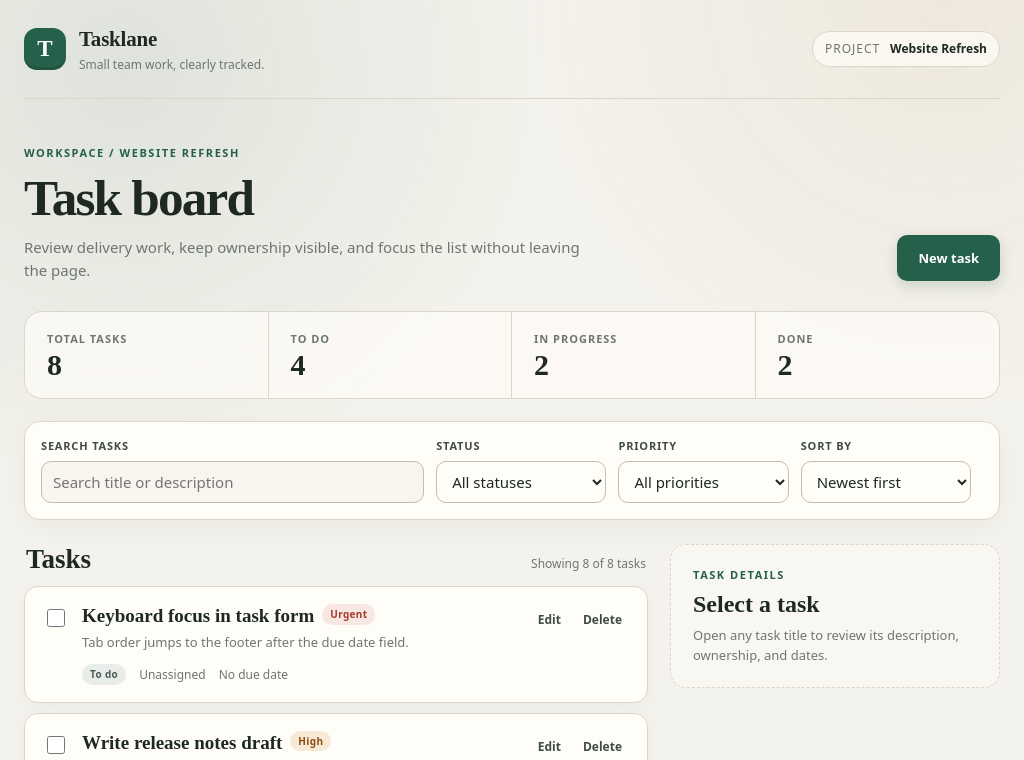
Scenario: TaskBoard › shows a validation error when a new task has no title
Click the button "New task" at {"x": 949, "y": 258}, box [898, 235, 1000, 281]
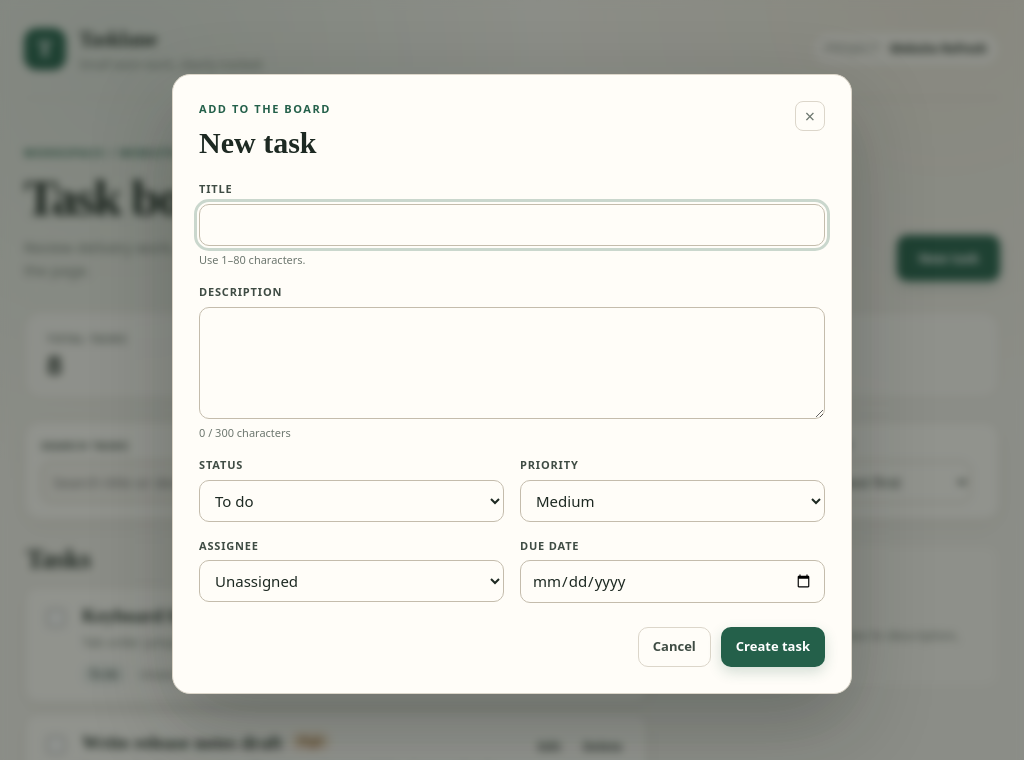
Click the button "Create task" at {"x": 773, "y": 647}, box [721, 627, 825, 667]
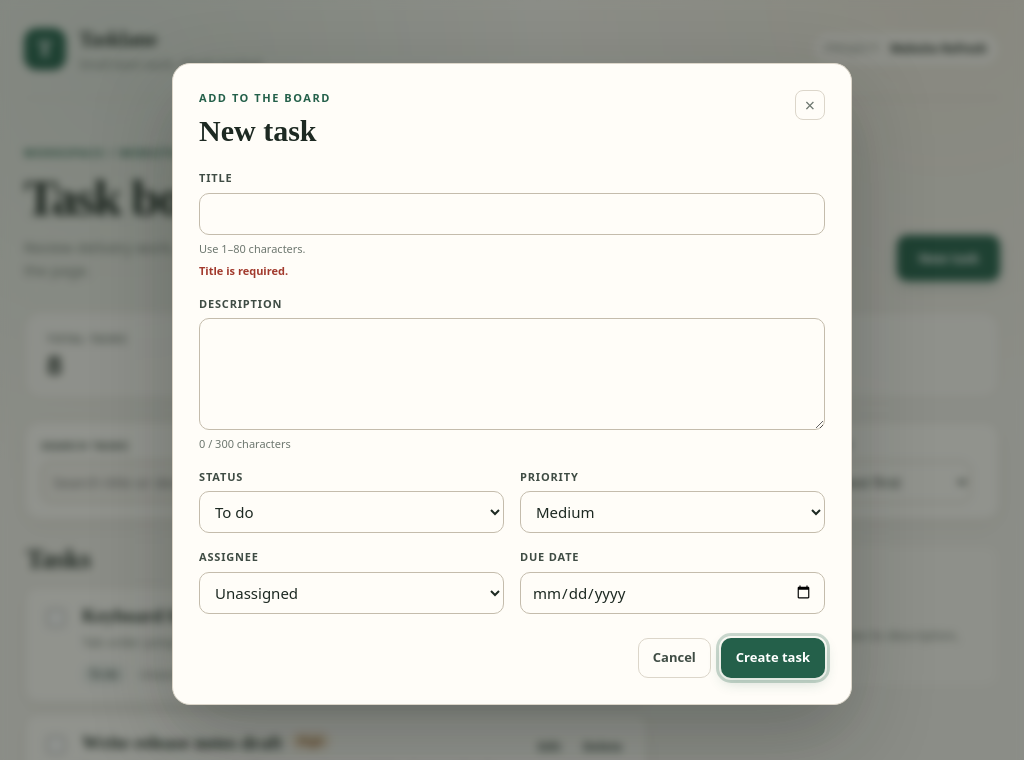
Result: the dialog "New task" is shown at [172, 63, 852, 705]
Result: the message reads "Title is required." at [199, 263, 288, 278]
